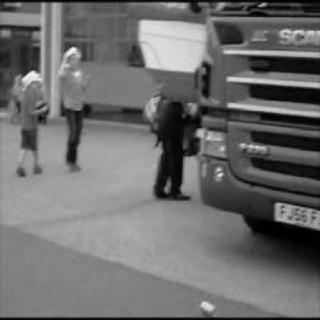other: (135, 11, 237, 104), (18, 42, 86, 84)
